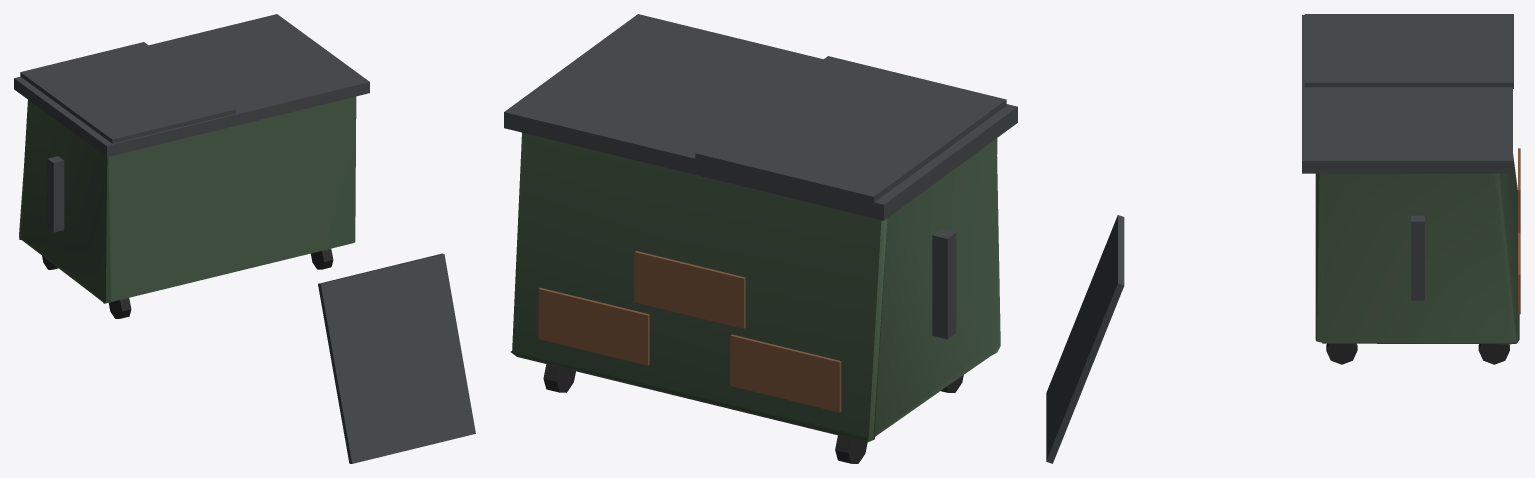
Rendered from ZR_Dumpster.fbx.
The picture shows the model from 3 angles, left to right: view 1: azimuth 30°, elevation 25°; view 2: azimuth 150°, elevation 25°; view 3: azimuth 270°, elevation 25°; orthographic projection. The views are drawn at different scales.
Parts seen in each view (by area): view 1: ZR_Dumpster; view 2: ZR_Dumpster; view 3: ZR_Dumpster.
Part boxes in pixels (<box>): ZR_Dumpster: <box>14,14,475,463</box>; ZR_Dumpster: <box>504,14,1017,463</box>; ZR_Dumpster: <box>1046,14,1520,463</box>.
Size of the model in its own units: 2.06 by 1.97 by 2.72.
